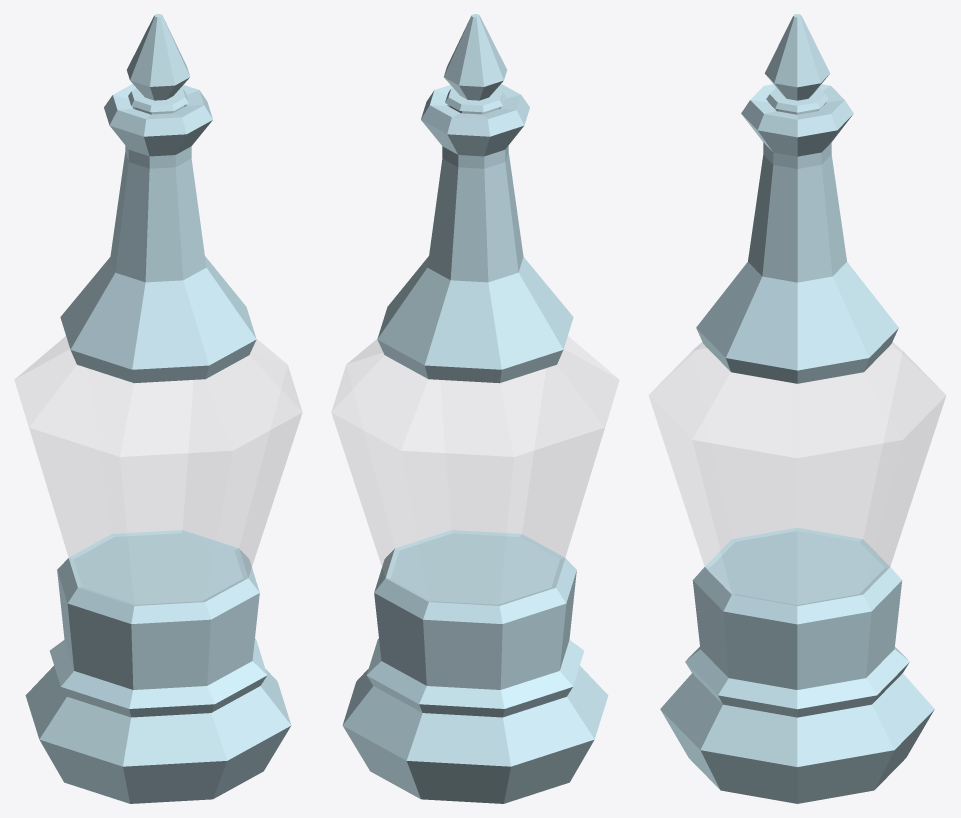
The model's file is Type_01_Empty.fbx.
3 views of the same model, side by side, from view 1: azimuth 30°, elevation 25°; view 2: azimuth 150°, elevation 25°; view 3: azimuth 270°, elevation 25° (orthographic).
Parts seen in each view (by area): view 1: Type_01b_Bottle, Type_01b_Cork; view 2: Type_01b_Bottle, Type_01b_Cork; view 3: Type_01b_Bottle, Type_01b_Cork.
Part boxes in pixels (x1,y1,x2,y2): Type_01b_Bottle: (15, 84, 302, 803); Type_01b_Cork: (127, 14, 189, 114); Type_01b_Bottle: (331, 84, 618, 803); Type_01b_Cork: (444, 14, 506, 114); Type_01b_Bottle: (649, 84, 945, 803); Type_01b_Cork: (764, 14, 830, 114).
Bounding box in the file's own units: 15 × 41.23 × 15.
